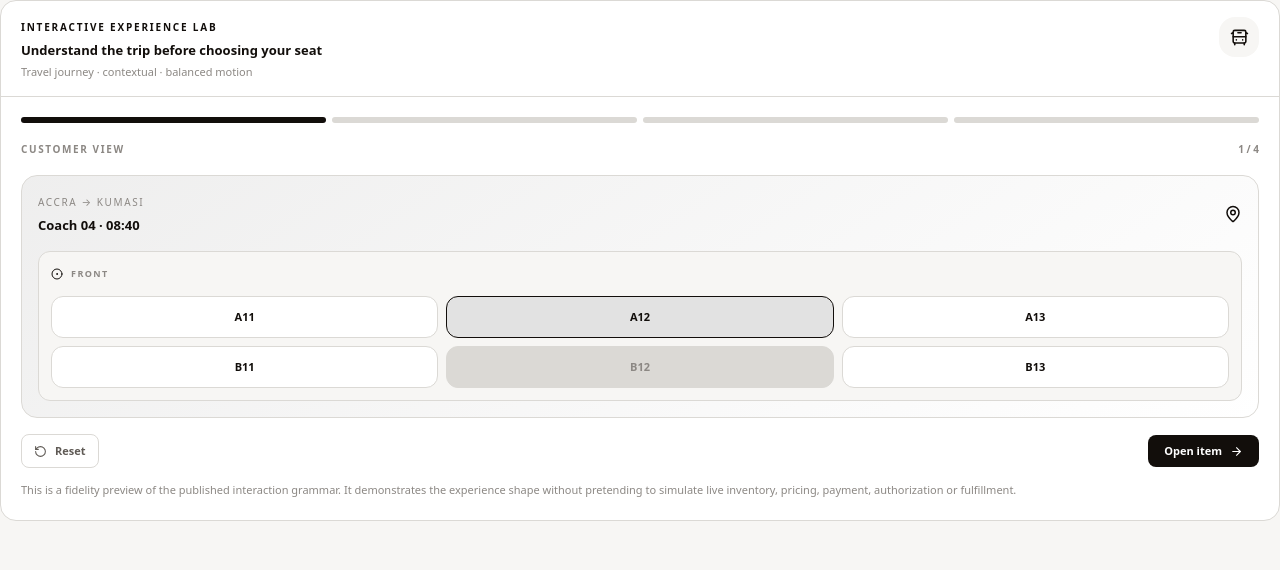
ExperienceSimulator › renders transit seats with an occupied seat disabled and a selectable journey
expect the button named "Seat B12 occupied" is disabled: met, box [446,346,834,388]
Click the button named "Seat A11" at (245, 317), box [51,296,438,338]
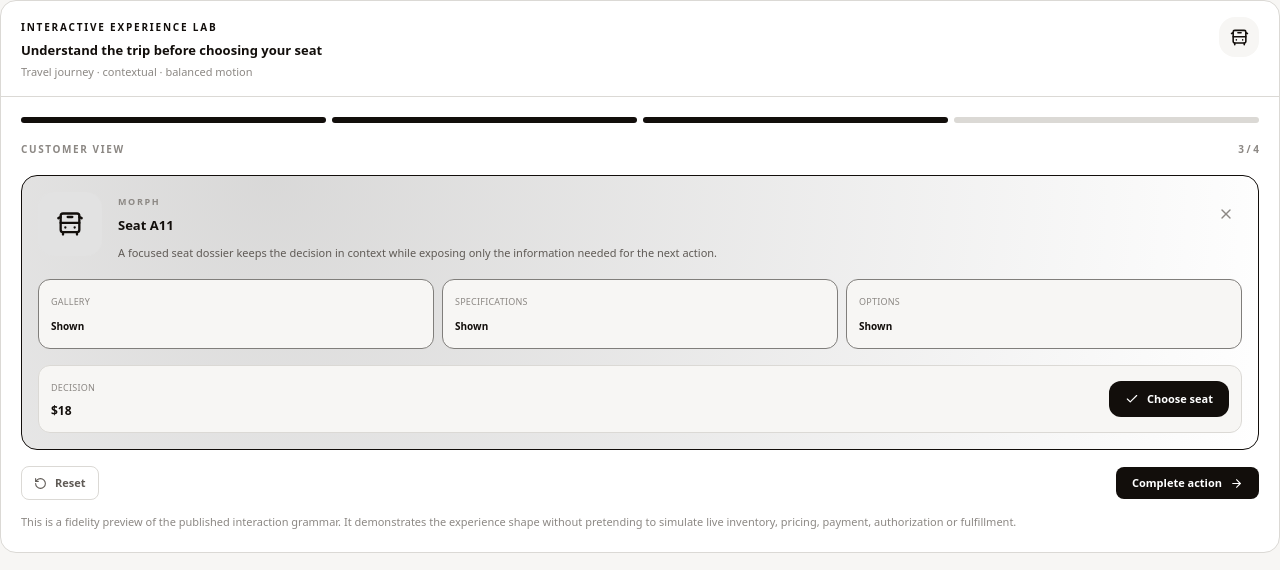
expect the heading "Seat A11" is shown: met, box [118,216,174,235]
